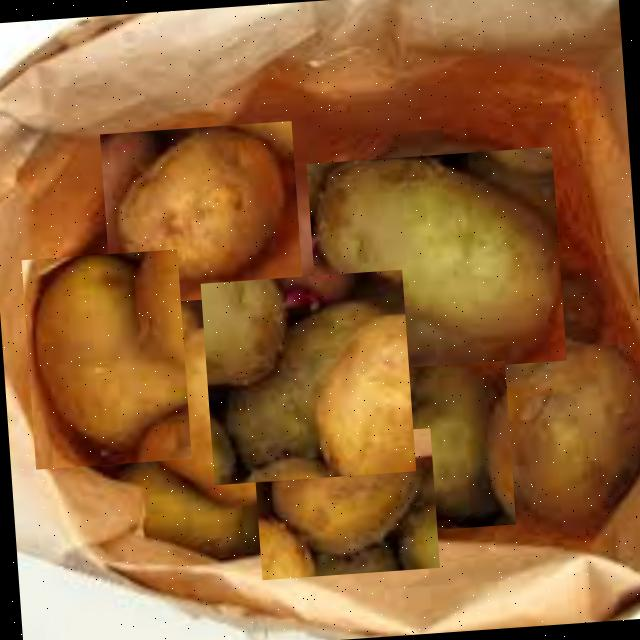Defected potato: (305, 146, 565, 377), (199, 268, 415, 484), (120, 302, 334, 513), (474, 310, 640, 543), (380, 359, 514, 532)
Potato: (98, 120, 302, 304), (20, 248, 190, 468), (252, 426, 438, 578)
